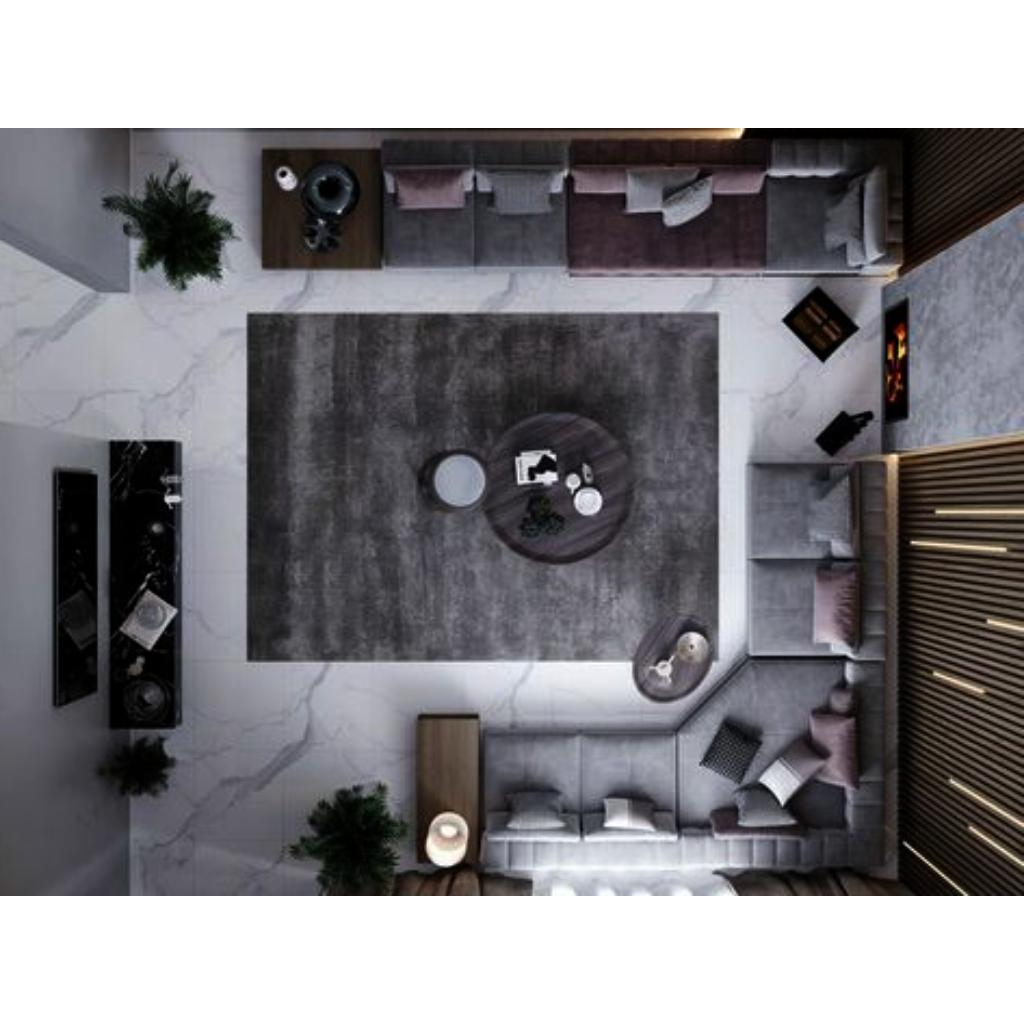TV stand: (50, 438, 178, 728)
coffee table: (482, 416, 632, 564), (632, 617, 714, 703)
fireplace: (873, 282, 907, 454)
floor plant: (138, 183, 214, 271), (324, 785, 390, 851), (119, 738, 173, 792)
ottoman: (421, 450, 477, 512)
rug: (244, 312, 720, 664)
side table: (260, 149, 374, 267), (419, 717, 477, 867)
sofa: (380, 134, 906, 272), (484, 730, 902, 870), (740, 463, 902, 727)
window: (396, 884, 914, 896)
